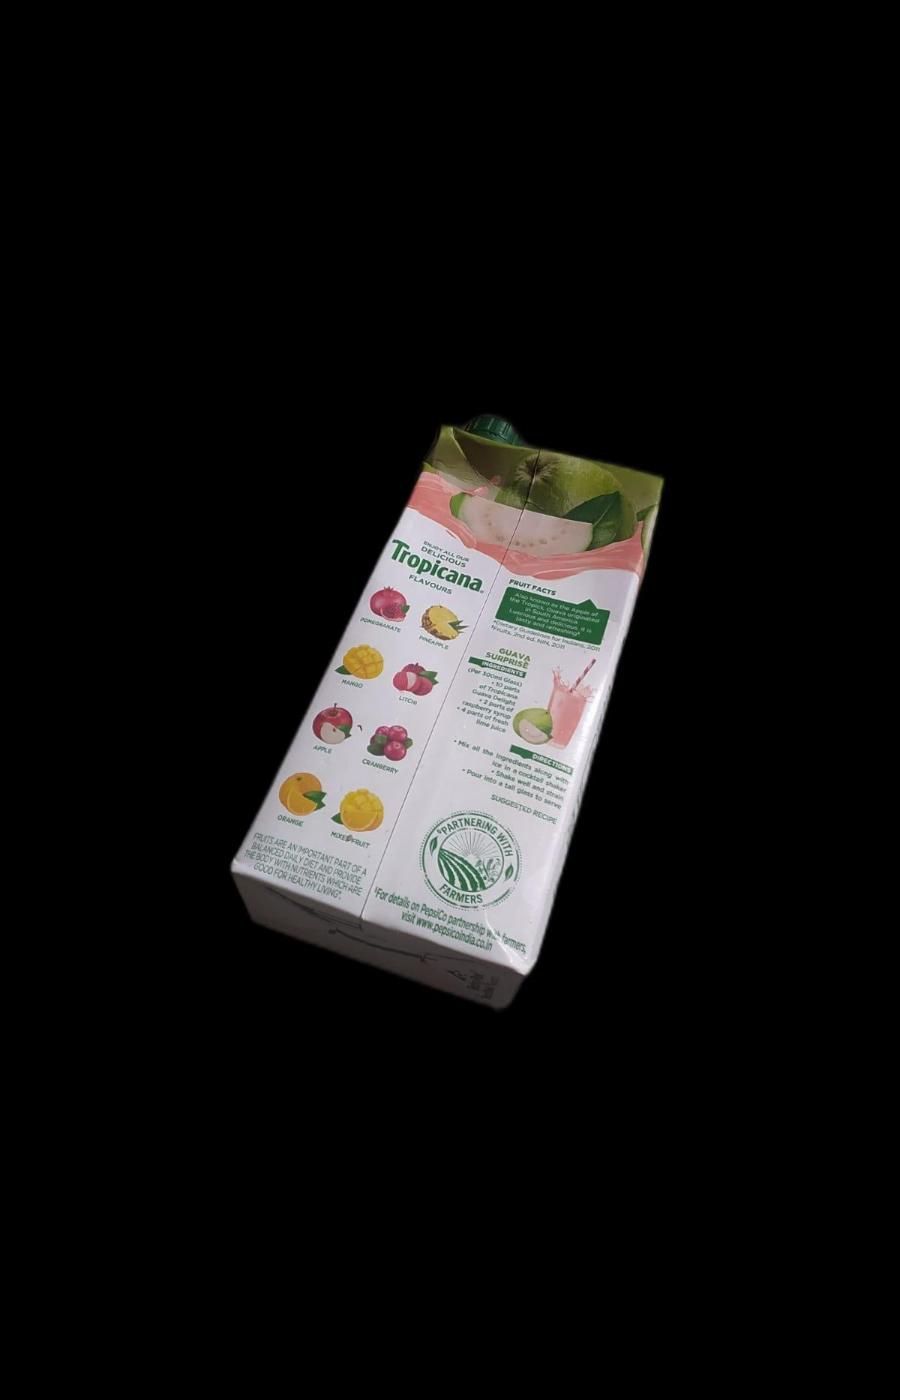Tropicana Fruit Juice - Delight Guava1 L: (205, 412, 668, 1019)
